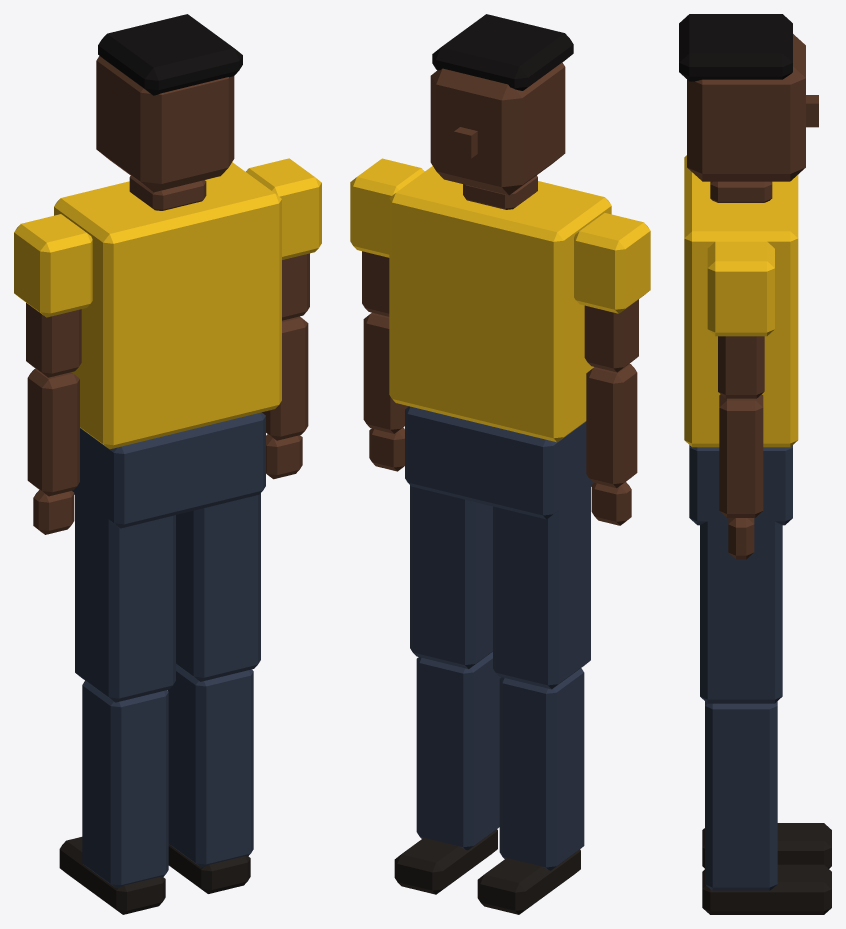
File: chr_joueur.glb
The picture shows the model from 3 angles, left to right: view 1: azimuth 30°, elevation 25°; view 2: azimuth 150°, elevation 25°; view 3: azimuth 270°, elevation 25°; orthographic projection. The views are drawn at different scales.
Visible parts, largest first — view 1: chr_torse, chr_cuisse_G, chr_tibia_G, chr_tibia_D, chr_bassin, chr_cuisse_D, chr_tete, chr_cheveux, chr_manche_G, chr_avantbras_G, chr_manche_D, chr_avantbras_D (+7 smaller); view 2: chr_torse, chr_cuisse_G, chr_tibia_G, chr_tibia_D, chr_bassin, chr_cuisse_D, chr_tete, chr_cheveux, chr_manche_G, chr_avantbras_G, chr_manche_D, chr_pied_D (+8 smaller); view 3: chr_torse, chr_cuisse_D, chr_tibia_D, chr_tete, chr_cheveux, chr_manche_D, chr_avantbras_D, chr_bassin, chr_pied_D, chr_bras_D, chr_pied_G, chr_cou (+2 smaller).
Part boxes in pixels (x1,y1,x2,y2): chr_torse: [54, 162, 281, 449]; chr_cuisse_G: [75, 484, 175, 702]; chr_tibia_G: [82, 680, 168, 888]; chr_tibia_D: [167, 664, 253, 867]; chr_bassin: [72, 412, 265, 528]; chr_cuisse_D: [176, 493, 260, 681]; chr_tete: [96, 56, 234, 192]; chr_cheveux: [98, 14, 242, 95]; chr_manche_G: [14, 214, 92, 317]; chr_avantbras_G: [27, 368, 79, 496]; chr_manche_D: [246, 158, 321, 259]; chr_avantbras_D: [262, 316, 308, 440]; chr_torse: [389, 166, 611, 442]; chr_cuisse_G: [493, 487, 590, 689]; chr_tibia_G: [499, 668, 584, 870]; chr_tibia_D: [416, 652, 501, 850]; chr_bassin: [405, 406, 593, 519]; chr_cuisse_D: [410, 485, 492, 668]; chr_tete: [430, 62, 565, 195]; chr_cheveux: [432, 14, 573, 90]; chr_manche_G: [574, 213, 650, 313]; chr_avantbras_G: [586, 363, 637, 488]; chr_manche_D: [350, 158, 424, 257]; chr_pied_D: [394, 829, 497, 894]; chr_torse: [684, 155, 798, 447]; chr_cuisse_D: [700, 507, 782, 703]; chr_tibia_D: [705, 701, 777, 890]; chr_tete: [687, 34, 805, 181]; chr_cheveux: [679, 14, 792, 81]; chr_manche_D: [707, 241, 774, 336]; chr_avantbras_D: [719, 394, 763, 517]; chr_bassin: [689, 445, 792, 525]; chr_pied_D: [702, 864, 831, 914]; chr_bras_D: [718, 336, 764, 398]; chr_pied_G: [702, 823, 831, 868]; chr_cou: [710, 181, 772, 202].
Bounding box in the file's own units: 0.63 × 1.81 × 0.295.
